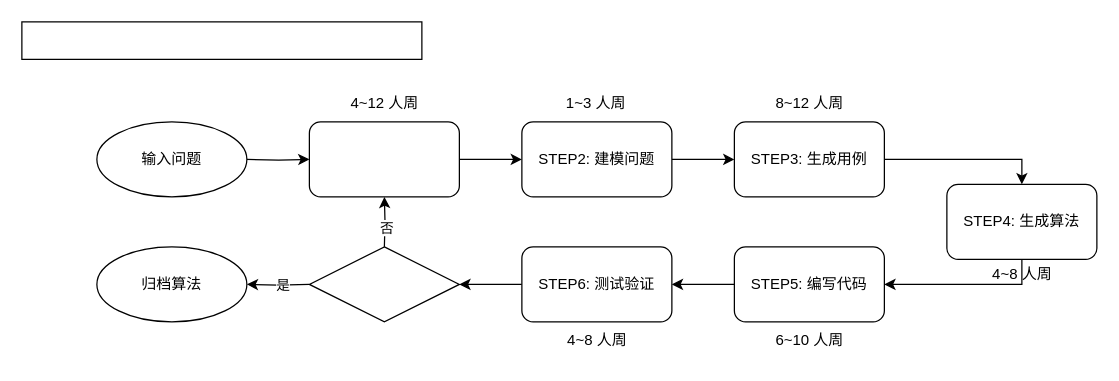
This 1119x381 diagram has some shape labels left out. The shapes that lost their labels are listed below. From the top down, each one's centre as x and y in pixels, then its label:
At pixel 221 40: "传统算法开发的基本流程".
At pixel 383 159: "STEP1: 收集信息".
At pixel 383 284: "测试通过达成目标".
